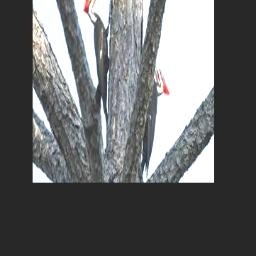Woodpecker: (141, 55, 170, 177), (84, 0, 112, 124)
